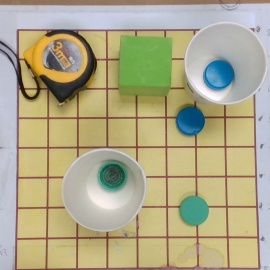blue: (177, 106, 205, 136)
cup_blue: (182, 22, 264, 110)
cup_green: (61, 147, 149, 232)
green: (179, 195, 209, 226)
